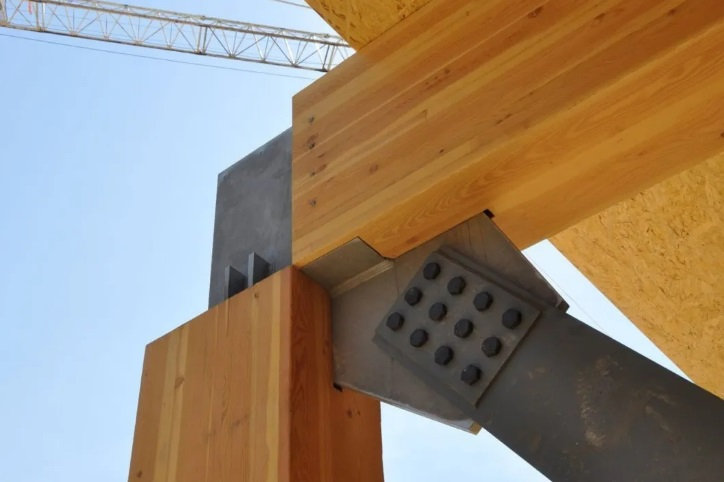vague: (459, 363, 483, 387), (499, 306, 522, 330), (479, 336, 503, 357), (408, 327, 430, 349), (427, 300, 448, 323), (444, 275, 468, 295), (403, 286, 425, 307), (433, 345, 455, 366), (385, 310, 405, 333), (473, 290, 493, 311), (453, 318, 474, 338), (421, 261, 440, 280)
